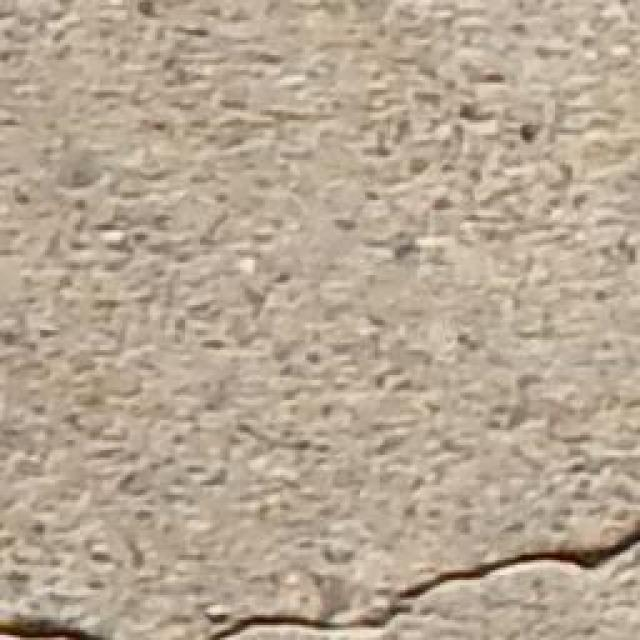concrete-crack: (199, 522, 640, 640), (1, 614, 112, 640)
